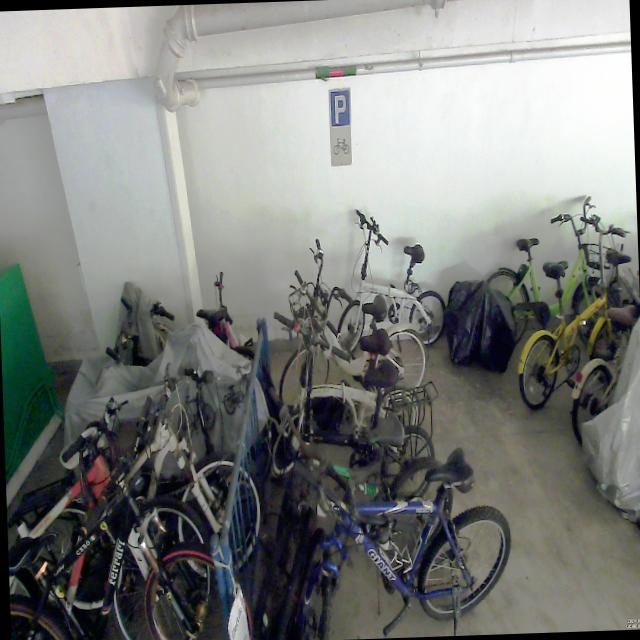bike: (3, 395, 253, 640), (33, 358, 264, 618), (3, 394, 215, 640), (262, 444, 514, 640), (268, 360, 436, 536), (272, 234, 428, 406), (266, 304, 420, 476), (481, 195, 627, 366), (512, 212, 640, 407), (333, 205, 447, 352)
